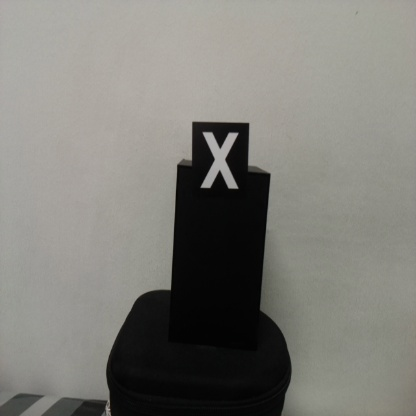id_13: (191, 121, 249, 207)
